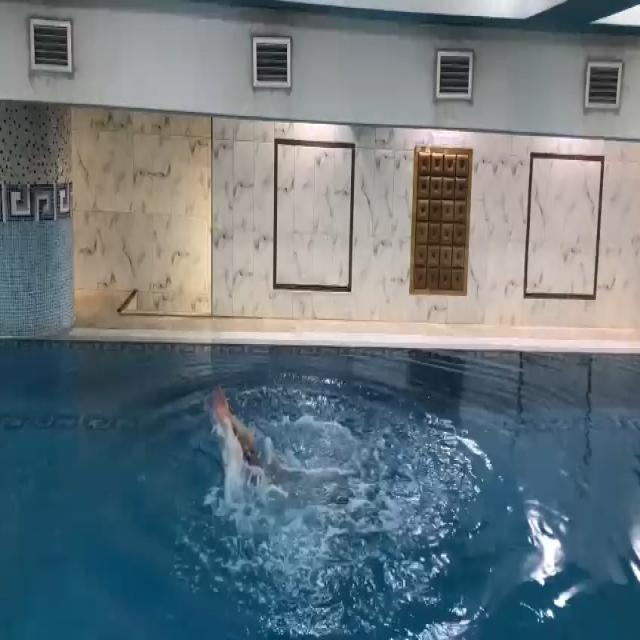Drowning: (213, 388, 352, 522)
